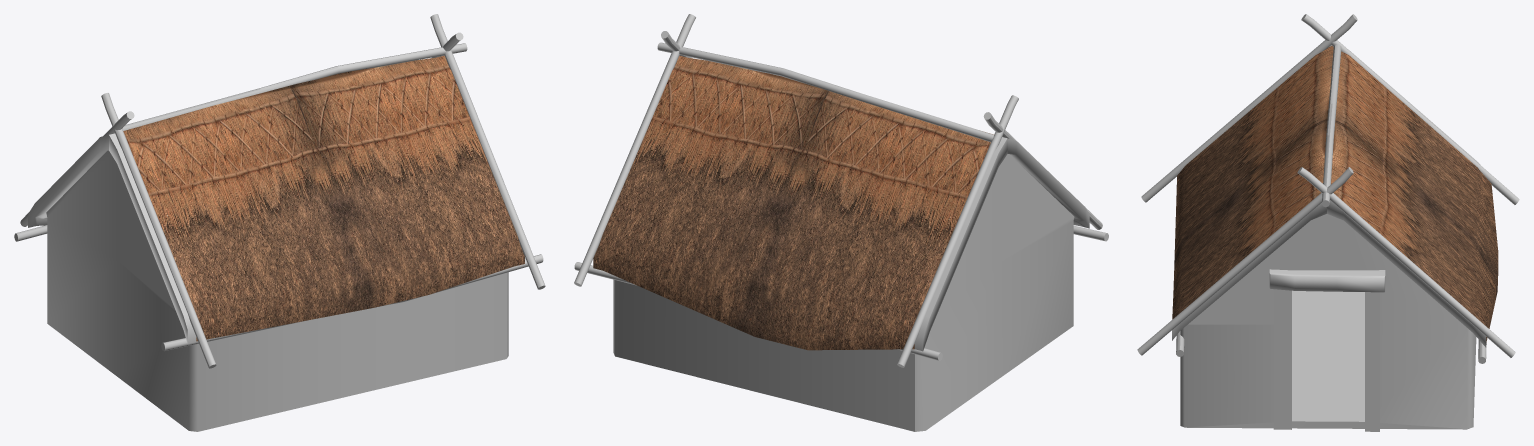
File: KeepBuildingC.fbx
The picture shows the model from 3 angles, left to right: view 1: azimuth 30°, elevation 25°; view 2: azimuth 150°, elevation 25°; view 3: azimuth 270°, elevation 25°; orthographic projection. The views are drawn at different scales.
Parts seen in each view (by area): view 1: U3DMesh; view 2: U3DMesh; view 3: U3DMesh.
Boxes of the visible parts, <box> form: U3DMesh: <box>14,14,545,431</box>; U3DMesh: <box>574,14,1108,431</box>; U3DMesh: <box>1137,14,1519,431</box>.
Size of the model in its own units: 263 by 185 by 239.
